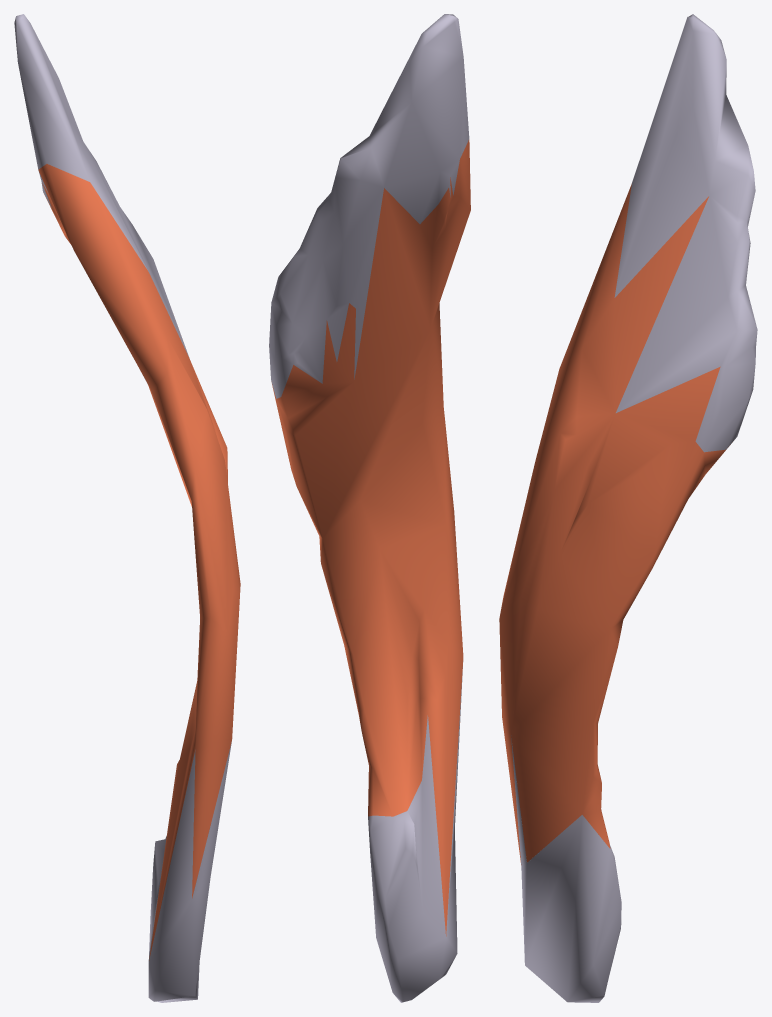
The model's file is Levator_nasolabialis.l_Generated_Mesh_From_X3D.390.glb.
3 renders of one model, left to right at view 1: azimuth 30°, elevation 25°; view 2: azimuth 150°, elevation 25°; view 3: azimuth 270°, elevation 25°, orthographic. The views are drawn at different scales.
Parts seen in each view (by area): view 1: Levator_nasolabialis.l_Generated_Mesh_From_X3D.390; view 2: Levator_nasolabialis.l_Generated_Mesh_From_X3D.390; view 3: Levator_nasolabialis.l_Generated_Mesh_From_X3D.390.
Part boxes in pixels (bbox=[...]): Levator_nasolabialis.l_Generated_Mesh_From_X3D.390: bbox=[14, 14, 240, 1002]; Levator_nasolabialis.l_Generated_Mesh_From_X3D.390: bbox=[269, 14, 470, 1002]; Levator_nasolabialis.l_Generated_Mesh_From_X3D.390: bbox=[499, 14, 757, 1002].
Bounding box in the file's own units: 0.00545 × 0.0291 × 0.00723.
